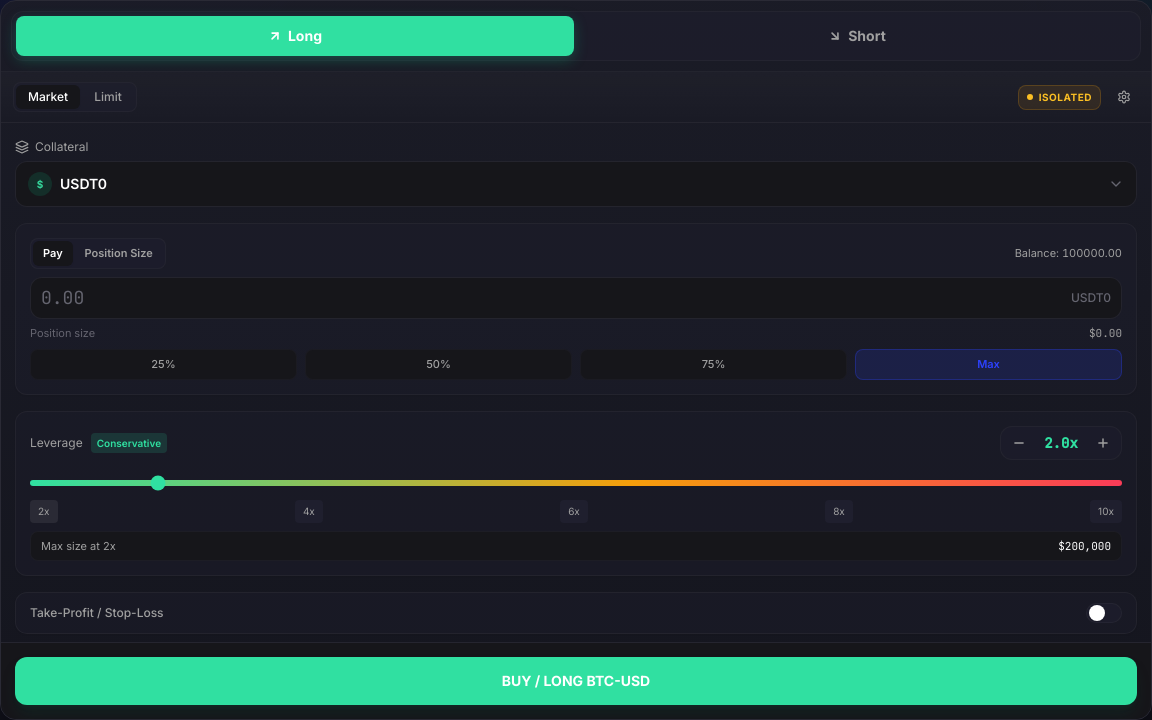
TradingForm input modes and preview › rejects a non-empty amount that parses to zero
This screenshot has width=1152, height=720.
Type "0" into the number field with test id "margin-input". click: point(552, 298)
box: [41,284,1063,312]
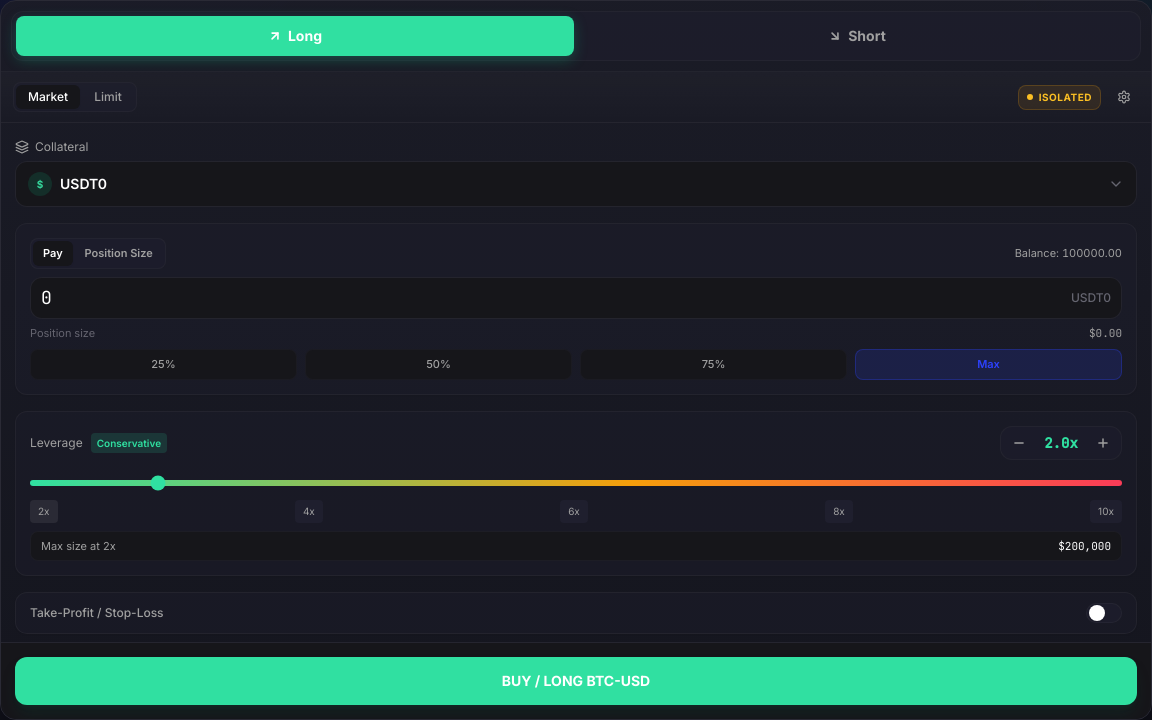
Click the button with test id "trade-button". click: point(576, 681)
box: [15,657,1137,705]
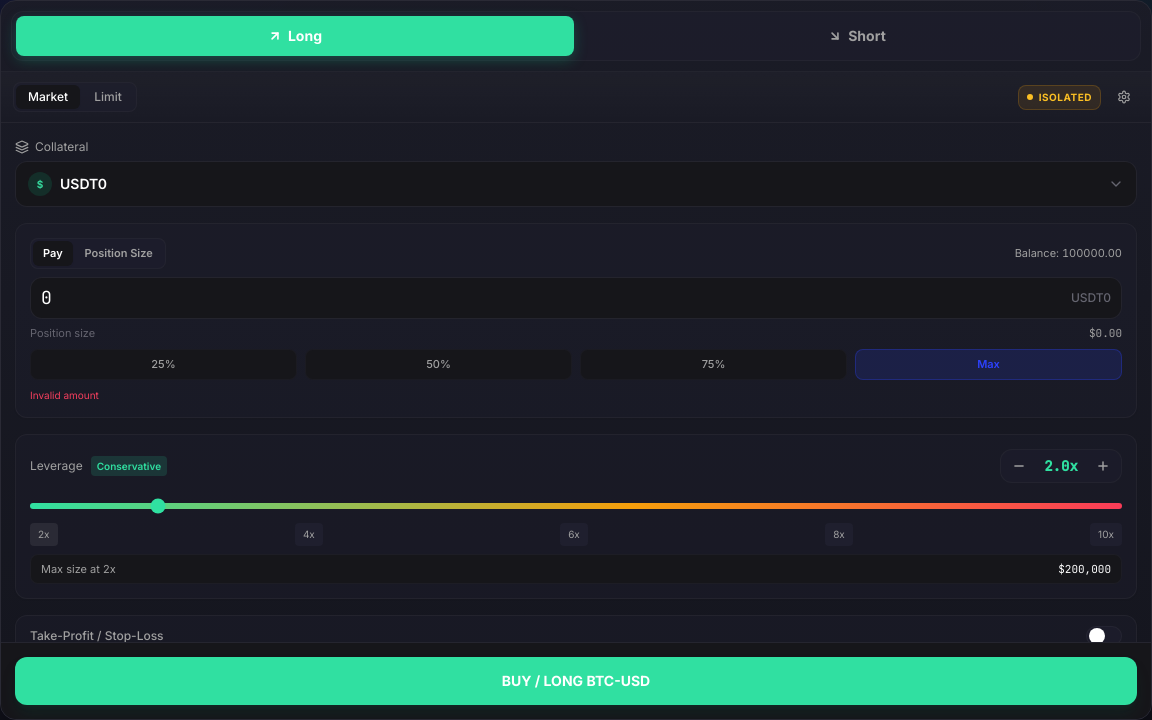
Expected: the text "Invalid amount" is shown, [30,388,99,400]
